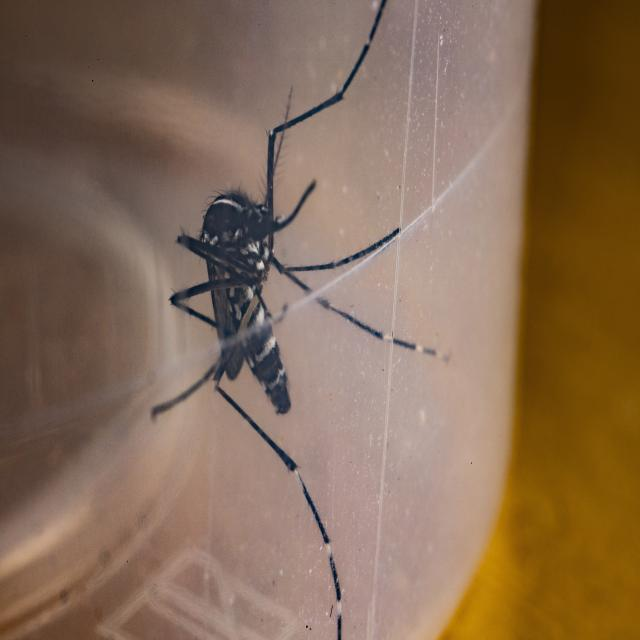albopictus: (142, 29, 460, 622)
